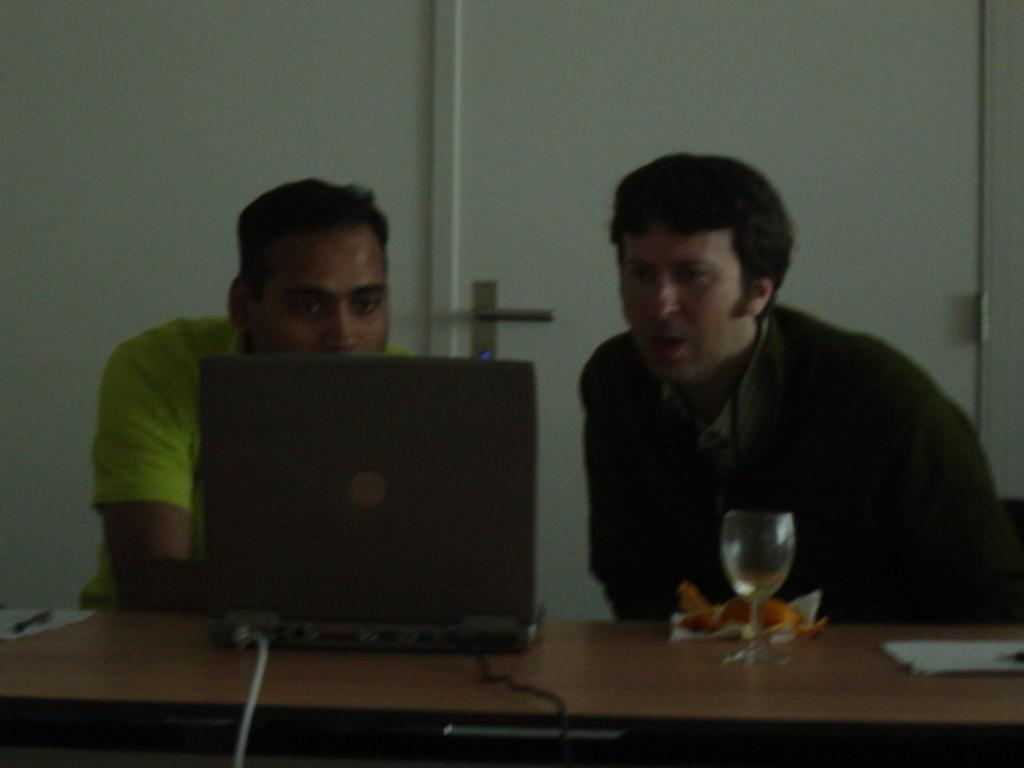Laptop: (160, 344, 541, 616)
